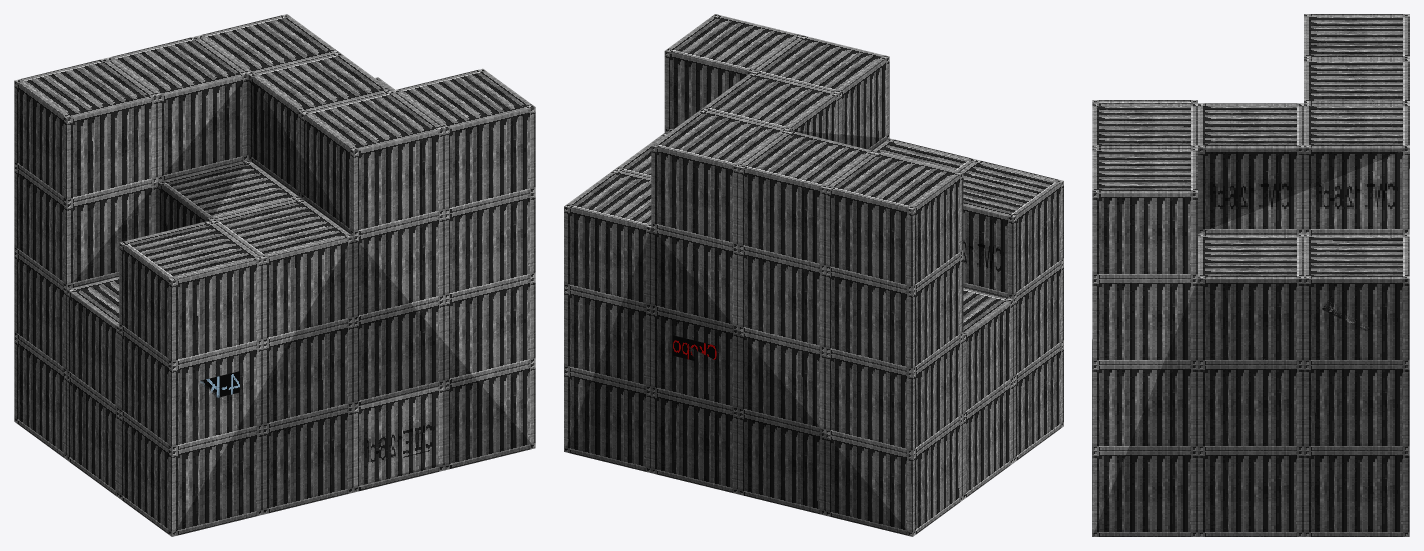
Rendered from primary_104.glb.
3 views of the same model, side by side, from view 1: azimuth 30°, elevation 25°; view 2: azimuth 150°, elevation 25°; view 3: azimuth 270°, elevation 25° (orthographic). The views are drawn at different scales.
Visible parts, largest first — view 1: Object; view 2: Object; view 3: Object.
Part boxes in pixels (x1=…): Object: x1=14, y1=14, x2=535, y2=536; Object: x1=564, y1=14, x2=1063, y2=536; Object: x1=1092, y1=14, x2=1409, y2=536.
Size of the model in its own units: 6.01 by 5.39 by 4.51.
Materials: 9 (9 with a texture image).
